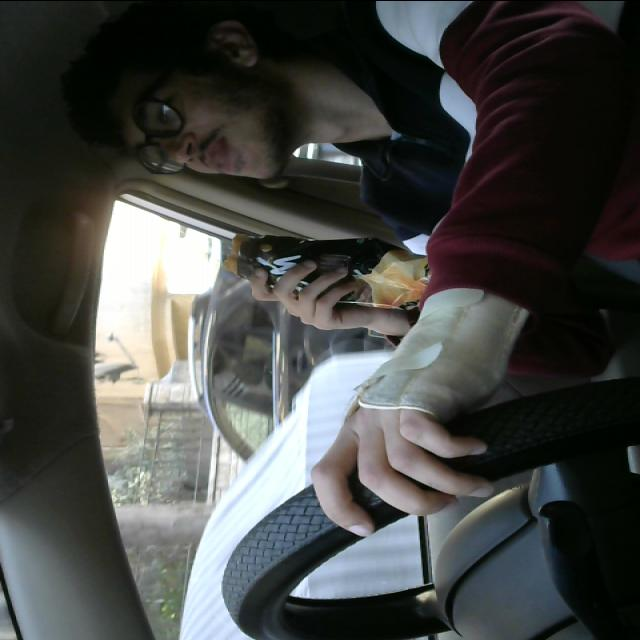eating: (222, 226, 462, 312)
